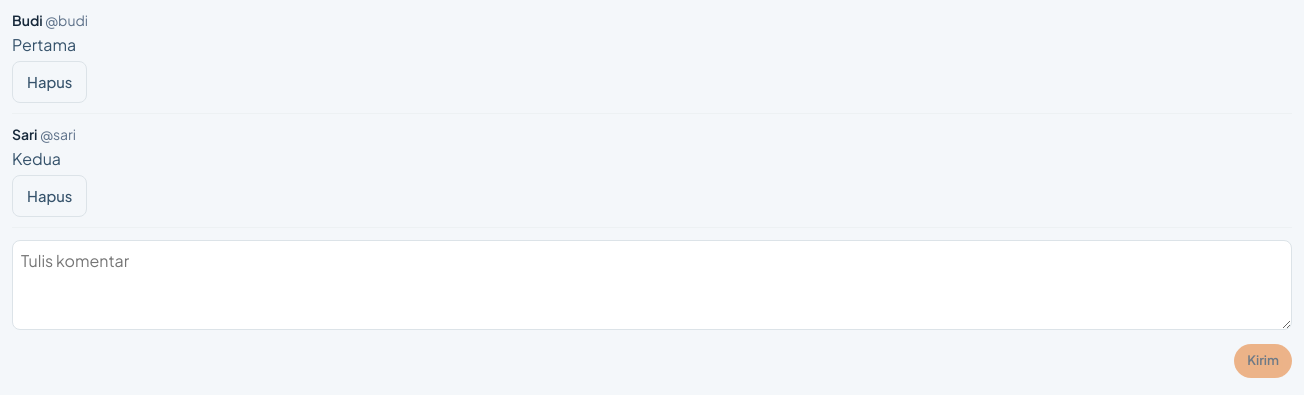
CommentList › removes a comment's row on a successful delete, with no refetch
This screenshot has width=1304, height=395.
Click the button "Hapus" below "Pertama": (50, 82) 12,61 -> 87,103
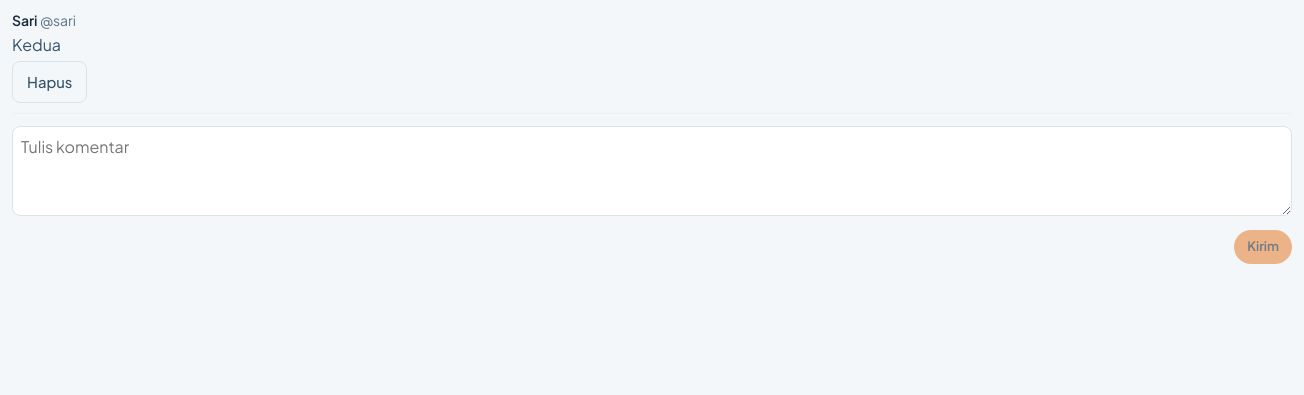
Now the number of list items is 1, box 12,0 -> 1292,114
